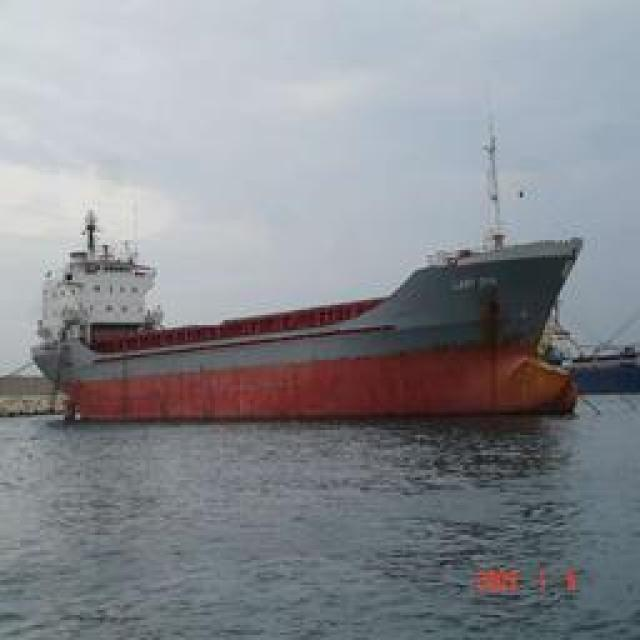CIV_Ship: (41, 224, 589, 426)
